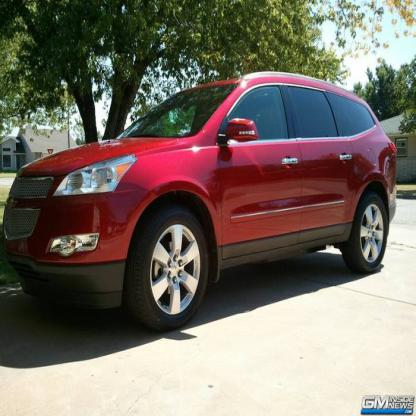Vehicle: (7, 66, 399, 334)
